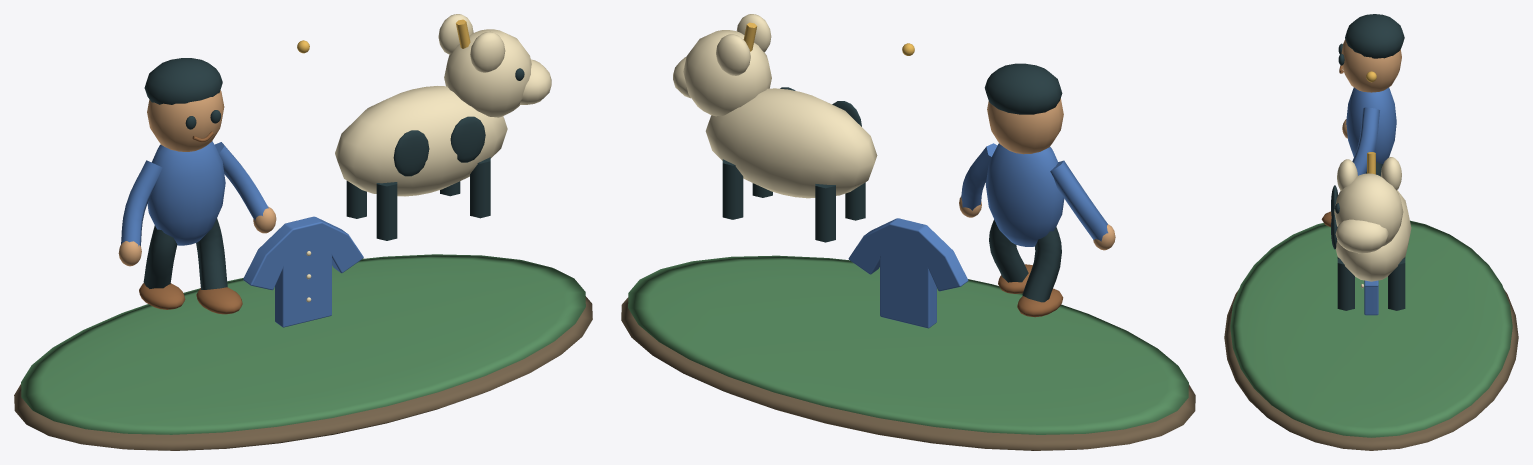
The model's file is complete-first-one-clothing-item.glb.
3 renders of one model, left to right at view 1: azimuth 30°, elevation 25°; view 2: azimuth 150°, elevation 25°; view 3: azimuth 270°, elevation 25°, orthographic. The views are drawn at different scales.
Parts seen in each view (by area): view 1: complete-first-one-clothing-item_surface_01, complete-first-one-clothing-item_surface_06, complete-first-one-clothing-item_surface_05, complete-first-one-clothing-item_surface_03, complete-first-one-clothing-item_surface_00, complete-first-one-clothing-item_surface_02, complete-first-one-clothing-item_surface_04; view 2: complete-first-one-clothing-item_surface_01, complete-first-one-clothing-item_surface_06, complete-first-one-clothing-item_surface_05, complete-first-one-clothing-item_surface_00, complete-first-one-clothing-item_surface_03, complete-first-one-clothing-item_surface_02, complete-first-one-clothing-item_surface_04; view 3: complete-first-one-clothing-item_surface_01, complete-first-one-clothing-item_surface_06, complete-first-one-clothing-item_surface_00, complete-first-one-clothing-item_surface_03, complete-first-one-clothing-item_surface_05, complete-first-one-clothing-item_surface_02.
Part boxes in pixels (box(x1,y1,x2,y2)): complete-first-one-clothing-item_surface_01: box(21, 254, 585, 434); complete-first-one-clothing-item_surface_06: box(306, 14, 551, 302); complete-first-one-clothing-item_surface_05: box(121, 141, 363, 327); complete-first-one-clothing-item_surface_03: box(143, 58, 524, 289); complete-first-one-clothing-item_surface_00: box(14, 296, 592, 450); complete-first-one-clothing-item_surface_02: box(118, 90, 276, 266); complete-first-one-clothing-item_surface_04: box(139, 131, 242, 314); complete-first-one-clothing-item_surface_01: box(628, 255, 1188, 434); complete-first-one-clothing-item_surface_06: box(673, 14, 877, 198); complete-first-one-clothing-item_surface_05: box(848, 143, 1108, 328); complete-first-one-clothing-item_surface_00: box(621, 297, 1195, 450); complete-first-one-clothing-item_surface_03: box(722, 63, 1062, 302); complete-first-one-clothing-item_surface_02: box(959, 98, 1115, 250); complete-first-one-clothing-item_surface_04: box(998, 264, 1063, 317); complete-first-one-clothing-item_surface_01: box(1230, 220, 1512, 437); complete-first-one-clothing-item_surface_06: box(1334, 157, 1411, 288); complete-first-one-clothing-item_surface_00: box(1224, 289, 1518, 450); complete-first-one-clothing-item_surface_03: box(1331, 14, 1405, 310); complete-first-one-clothing-item_surface_05: box(1346, 87, 1396, 315); complete-first-one-clothing-item_surface_02: box(1341, 39, 1401, 138).
Size of the model in its own units: 4.56 by 2.67 by 2.5.
